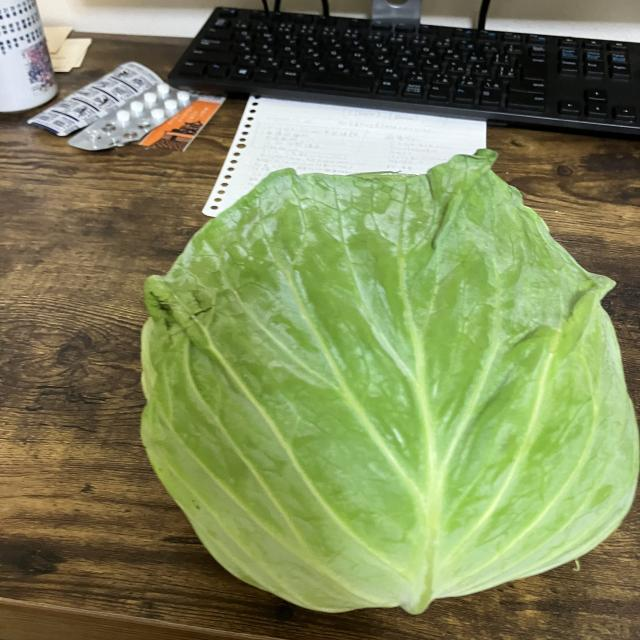cabbage: (136, 142, 640, 621)
